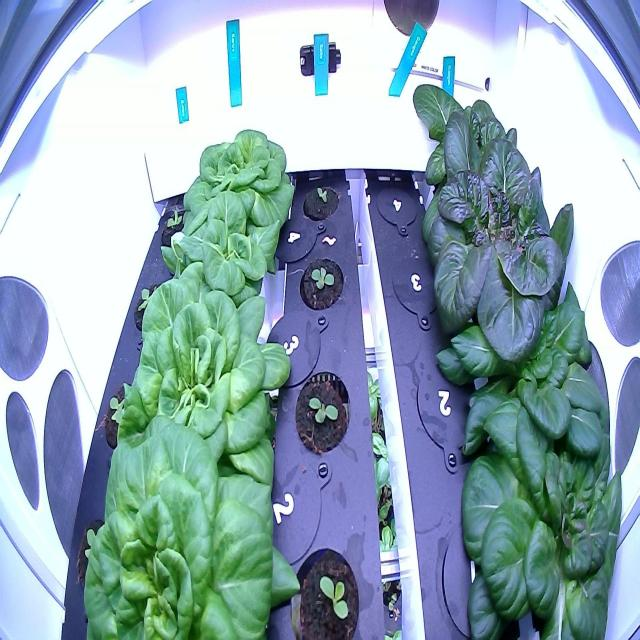Ready: (451, 380, 627, 638), (429, 228, 611, 472), (423, 100, 585, 370), (408, 57, 544, 250)
empty_pod: (439, 514, 523, 639), (411, 344, 485, 478), (386, 243, 450, 334), (371, 168, 422, 239)
germination: (288, 534, 362, 639), (290, 363, 354, 460), (100, 370, 156, 457), (132, 270, 176, 344), (155, 192, 200, 260), (298, 165, 343, 227)
young: (78, 418, 301, 640), (111, 262, 292, 483), (172, 118, 298, 256), (161, 186, 293, 296), (296, 245, 346, 319)
